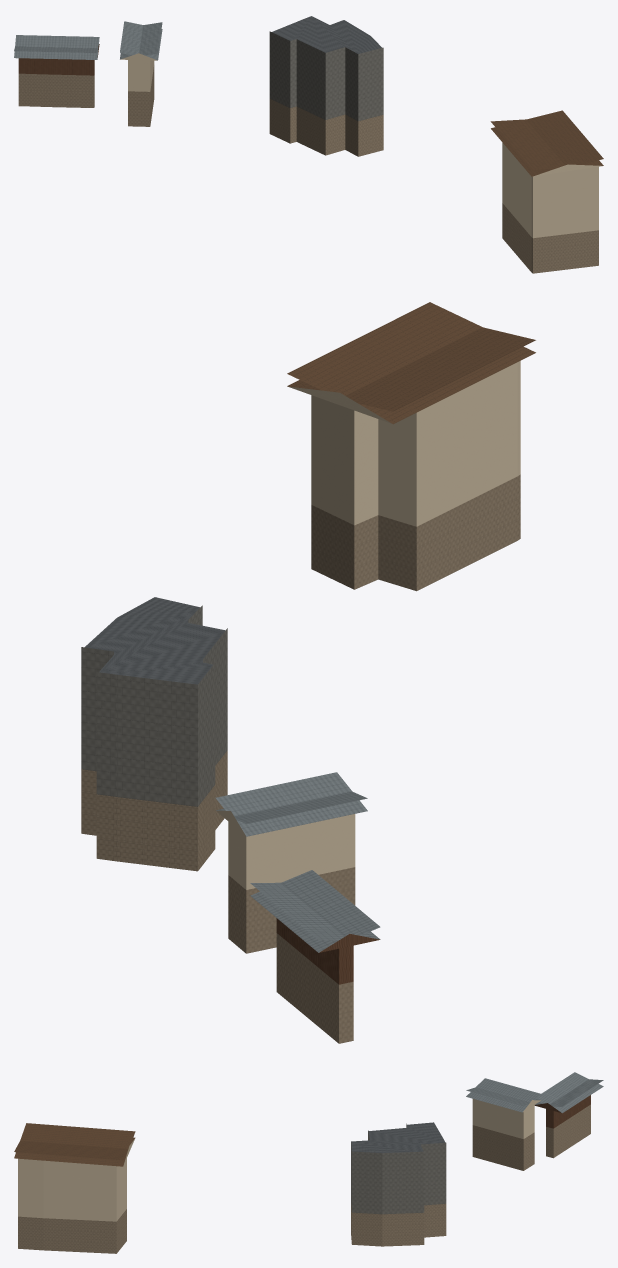
Rendered from bld_c31_-39_464.gltf.
3 renders of one model, top to bottom at view 1: azimuth 30°, elevation 25°; view 2: azimuth 150°, elevation 25°; view 3: azimuth 270°, elevation 25°, orthographic. The views are drawn at different scales.
Parts seen in each view (by area): view 1: bld_c31_-39_464; view 2: bld_c31_-39_464; view 3: bld_c31_-39_464.
Boxes of the visible parts, left/top/right/bottom form: bld_c31_-39_464: left=14, top=16, right=603, bottom=273; bld_c31_-39_464: left=81, top=302, right=535, bottom=1043; bld_c31_-39_464: left=14, top=1072, right=603, bottom=1253.
Bounding box in the file's own units: 45.2 × 17.1 × 84.64.
Materials: 10 (10 with a texture image).
